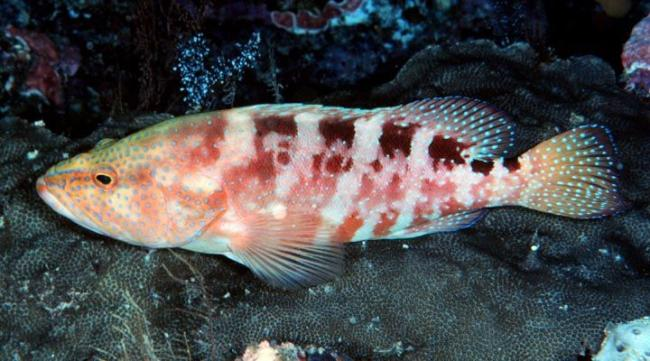fish: (37, 95, 622, 289)
